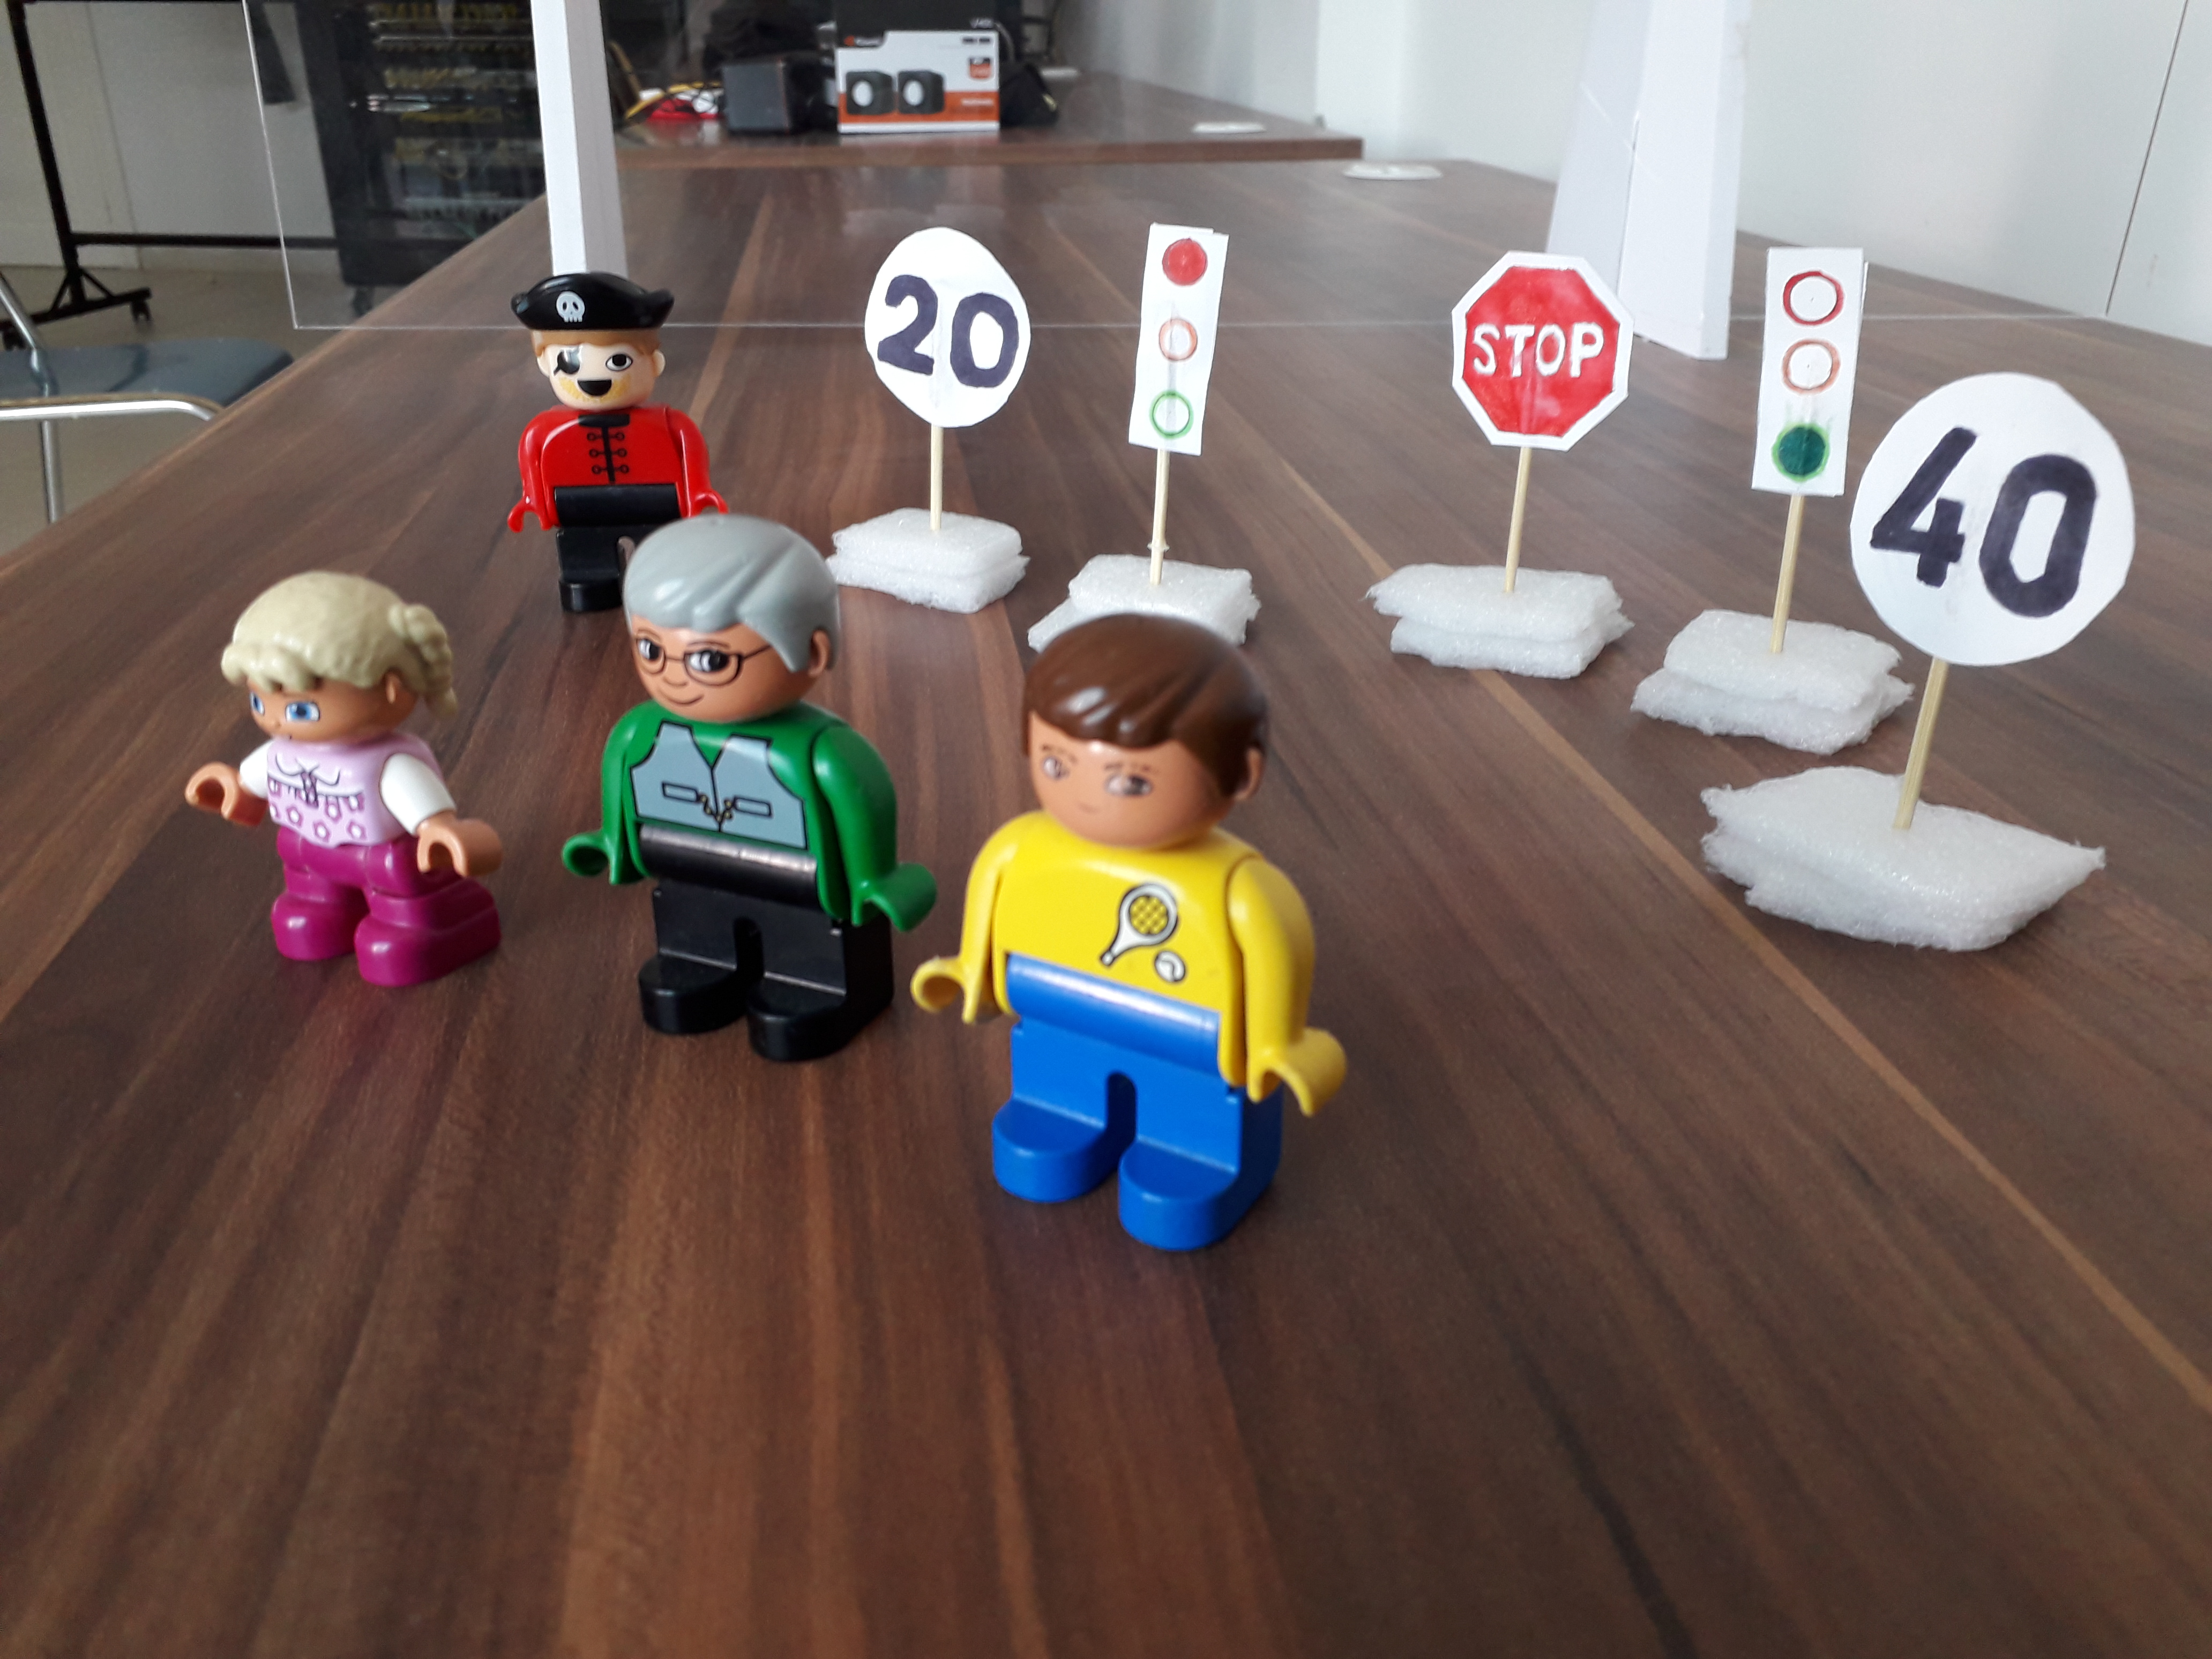20_sign: (849, 222, 1038, 426)
40_sign: (1847, 367, 2143, 663)
green_light: (1753, 247, 1860, 500)
person: (941, 612, 1339, 1253), (581, 515, 931, 1061), (186, 569, 512, 997), (495, 268, 719, 607)
red_light: (1130, 225, 1217, 457)
stop_sign: (1452, 257, 1625, 459)
